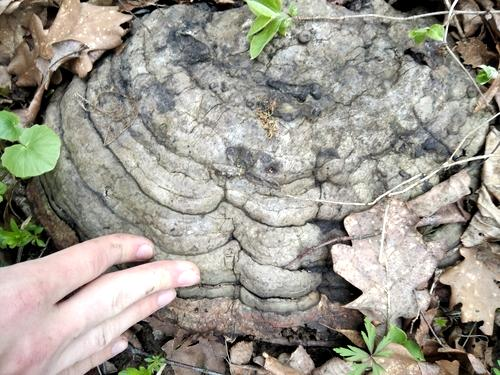Ganoderma - Fruit Body: (12, 0, 495, 343)
